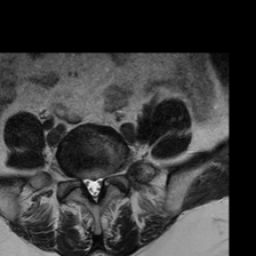CCS_normal: (89, 170, 97, 208)
LFS_severe_stenosis: (104, 166, 111, 187)
LLS_stenosis: (97, 172, 104, 200)
RFS_severe_stenosis: (75, 168, 81, 188)
RLS_stenosis: (81, 173, 89, 197)
